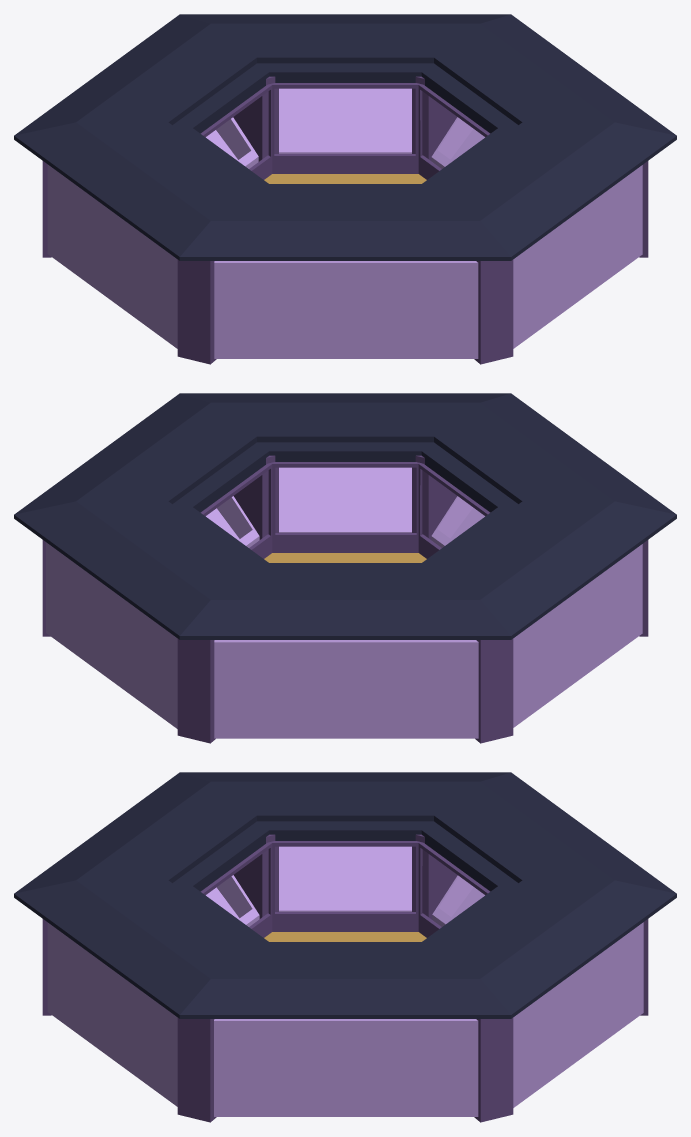
The model's file is Arena.fbx.
The picture shows the model from 3 angles, top to bottom: view 1: azimuth 30°, elevation 25°; view 2: azimuth 150°, elevation 25°; view 3: azimuth 270°, elevation 25°; orthographic projection.
Visible parts, largest first — view 1: ARENA; view 2: ARENA; view 3: ARENA.
Part boxes in pixels (<box>): ARENA: <box>14,14,676,364</box>; ARENA: <box>14,393,676,743</box>; ARENA: <box>14,772,676,1122</box>.
Bounding box in the file's own units: 6015 × 1472 × 6946.
